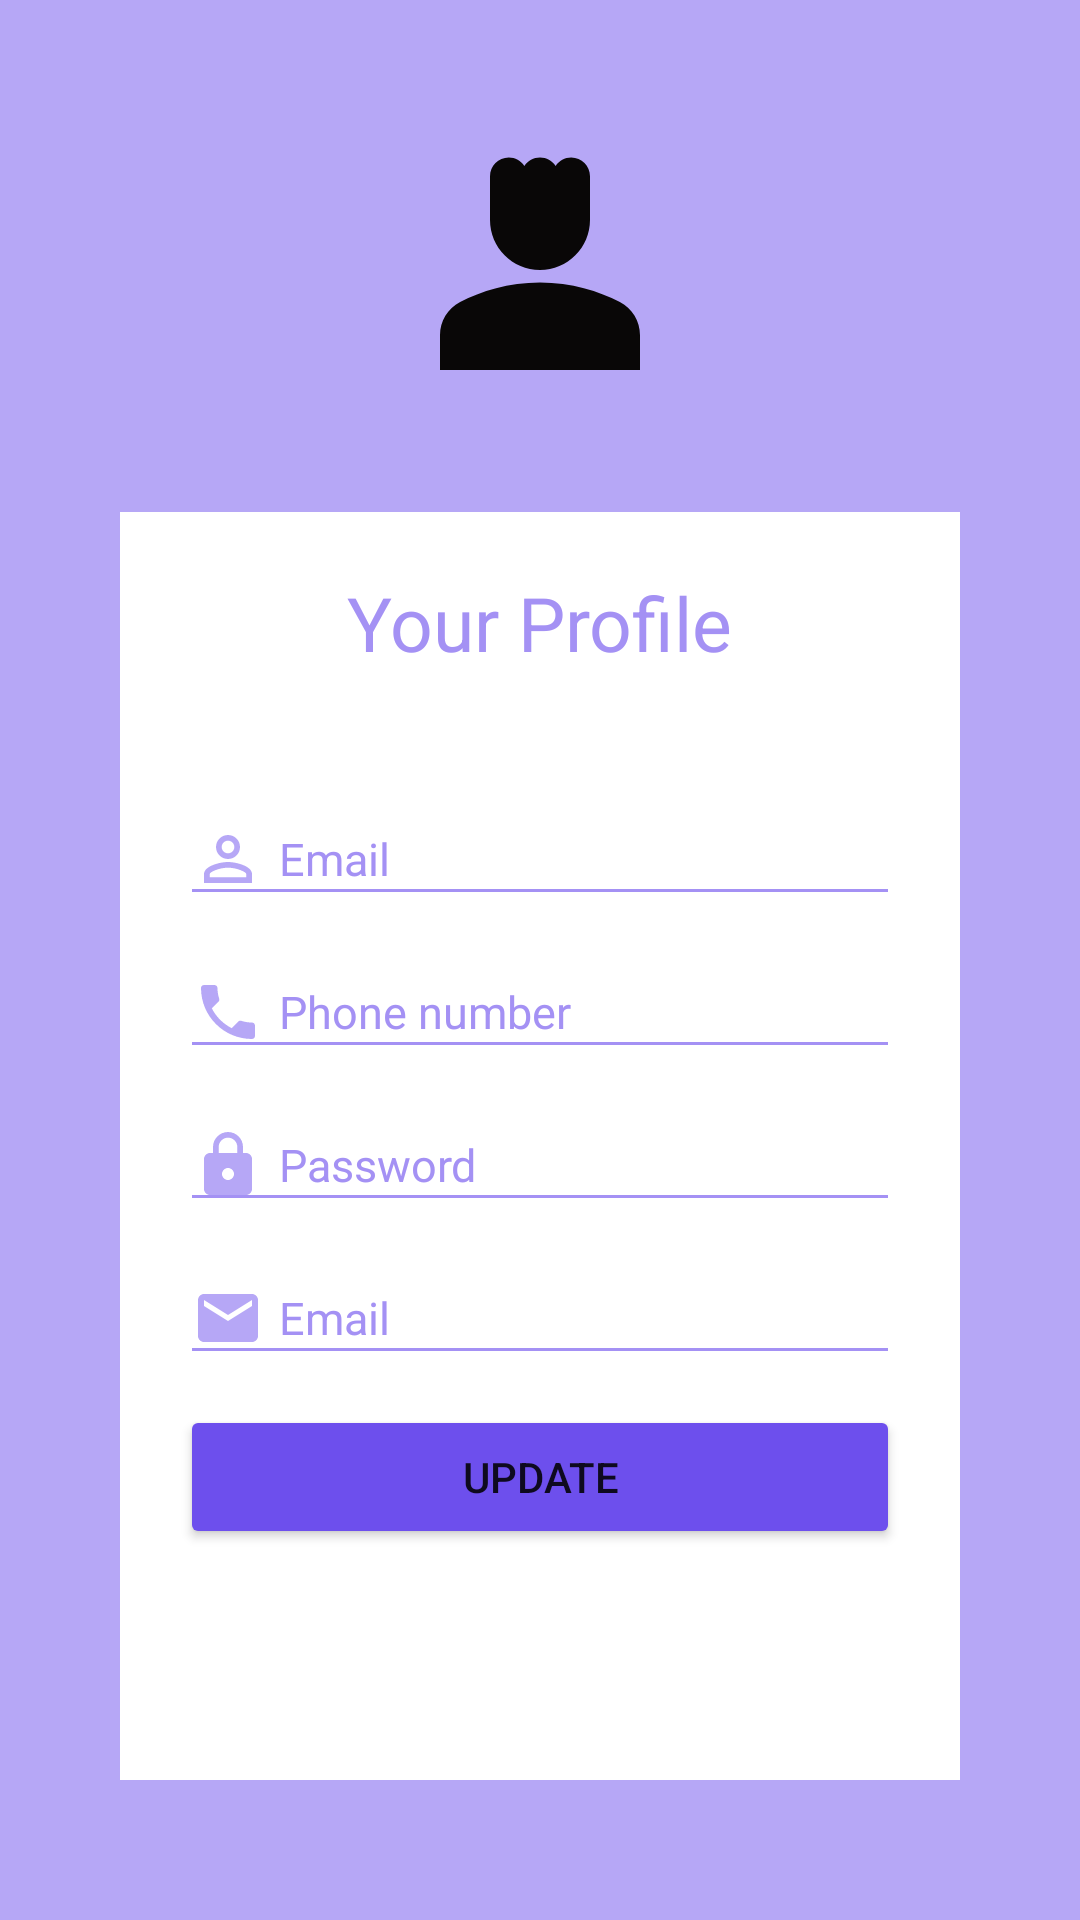

Point at icon controls on the screen. Image size 1080*1920, points as (x,y).
person: (540,263)
